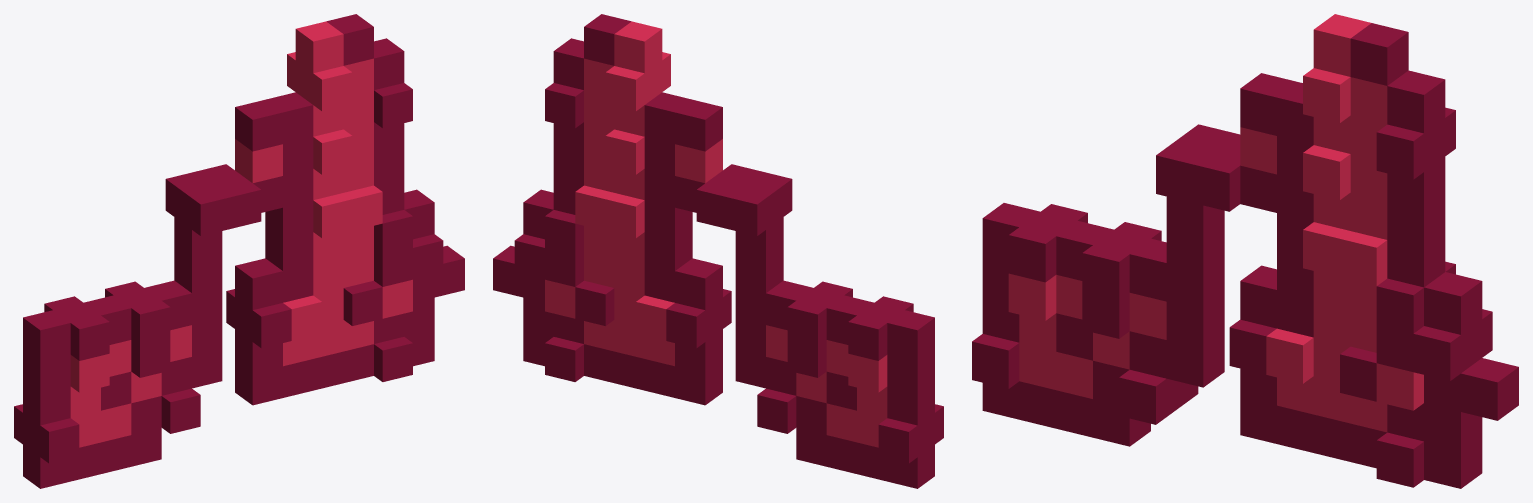
The model's file is Fighter.fbx.
The picture shows the model from 3 angles, left to right: view 1: azimuth 30°, elevation 25°; view 2: azimuth 150°, elevation 25°; view 3: azimuth 330°, elevation 25°; orthographic projection. The views are drawn at different scales.
Parts seen in each view (by area): view 1: generated; view 2: generated; view 3: generated.
Boxes of the visible parts, box(x1,y1,x2,y2) form: generated: box(14, 14, 464, 488); generated: box(493, 14, 943, 488); generated: box(972, 14, 1518, 488).
Bounding box in the file's own units: 140 × 120 × 20.
